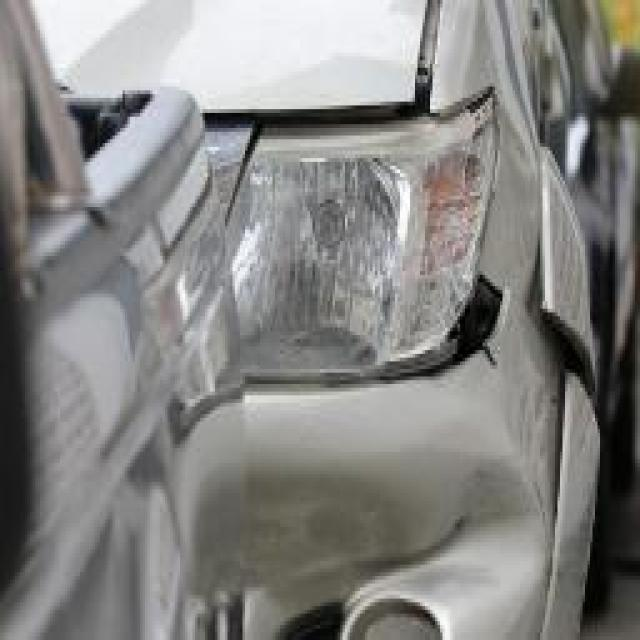Bumper: (338, 320, 595, 640)
